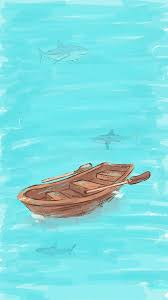boat: (18, 162, 152, 219)
